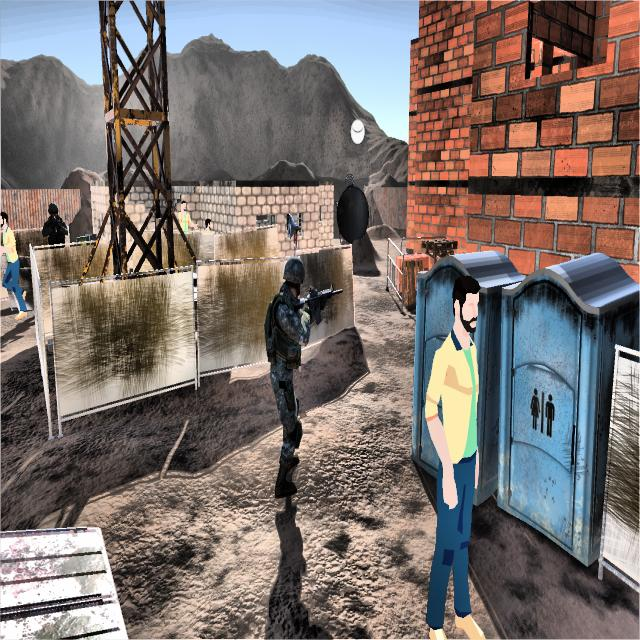bad: (261, 249, 327, 509), (41, 190, 70, 246)
good: (400, 247, 494, 640), (1, 206, 30, 328), (176, 193, 192, 240), (204, 211, 212, 234)
